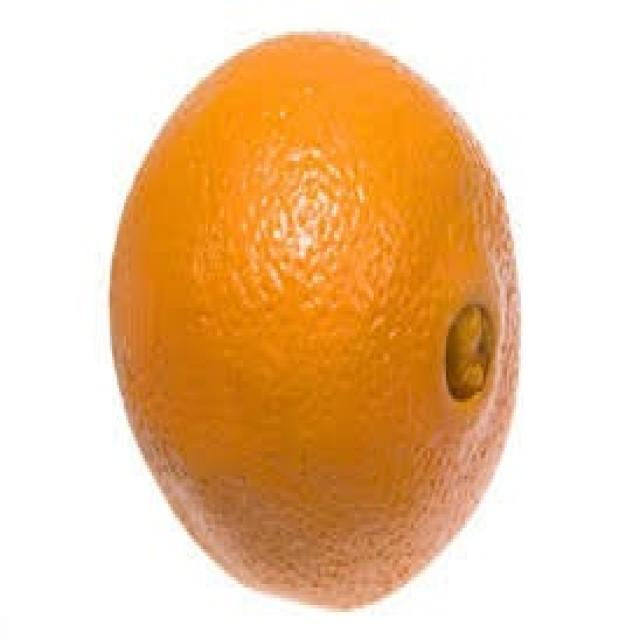Good_Orange: (107, 31, 523, 612)
